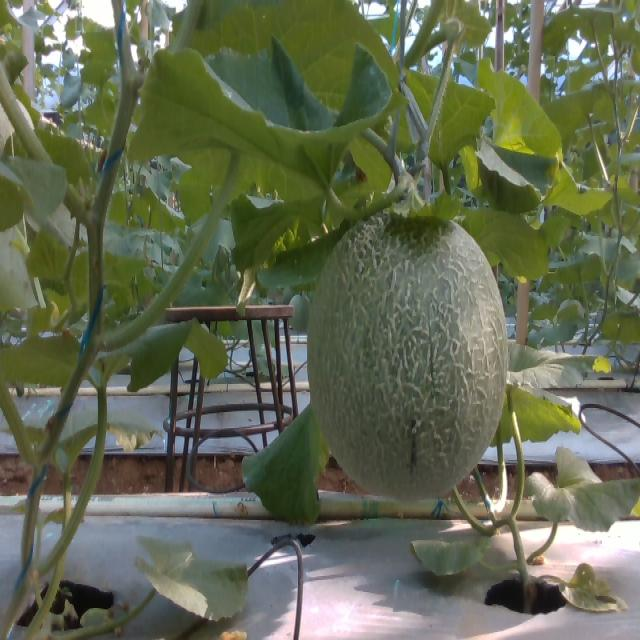melon: (309, 212, 509, 501)
